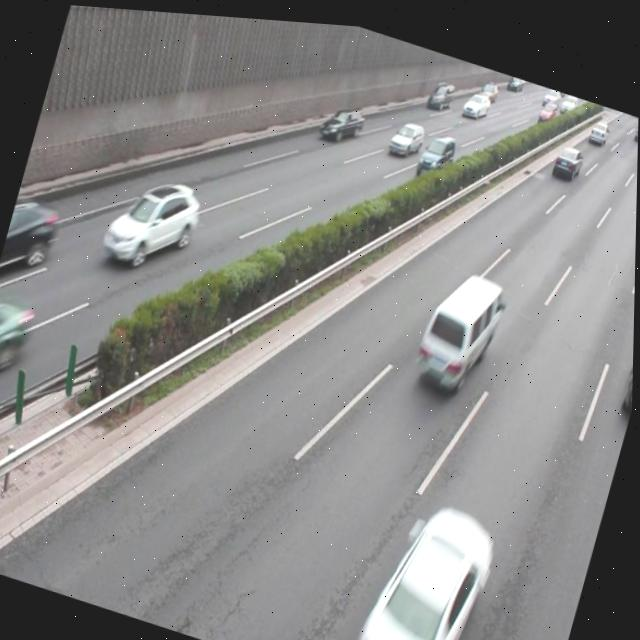car: (340, 476, 502, 640), (99, 161, 207, 280), (0, 188, 63, 305), (0, 290, 40, 428), (413, 121, 458, 179), (317, 93, 367, 144), (385, 108, 427, 157), (619, 324, 635, 406)
truck: (408, 252, 509, 394)
